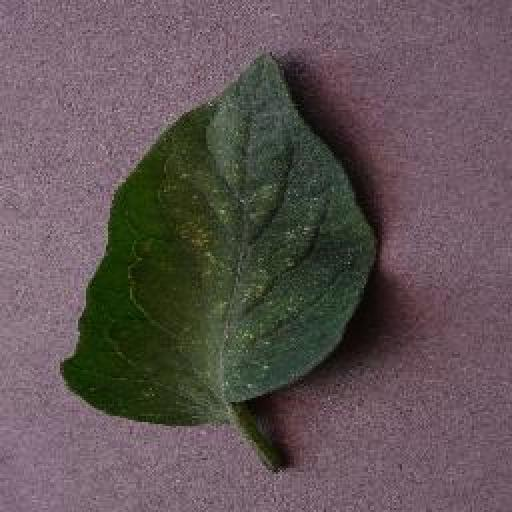disease_tomato: (58, 50, 374, 428)
